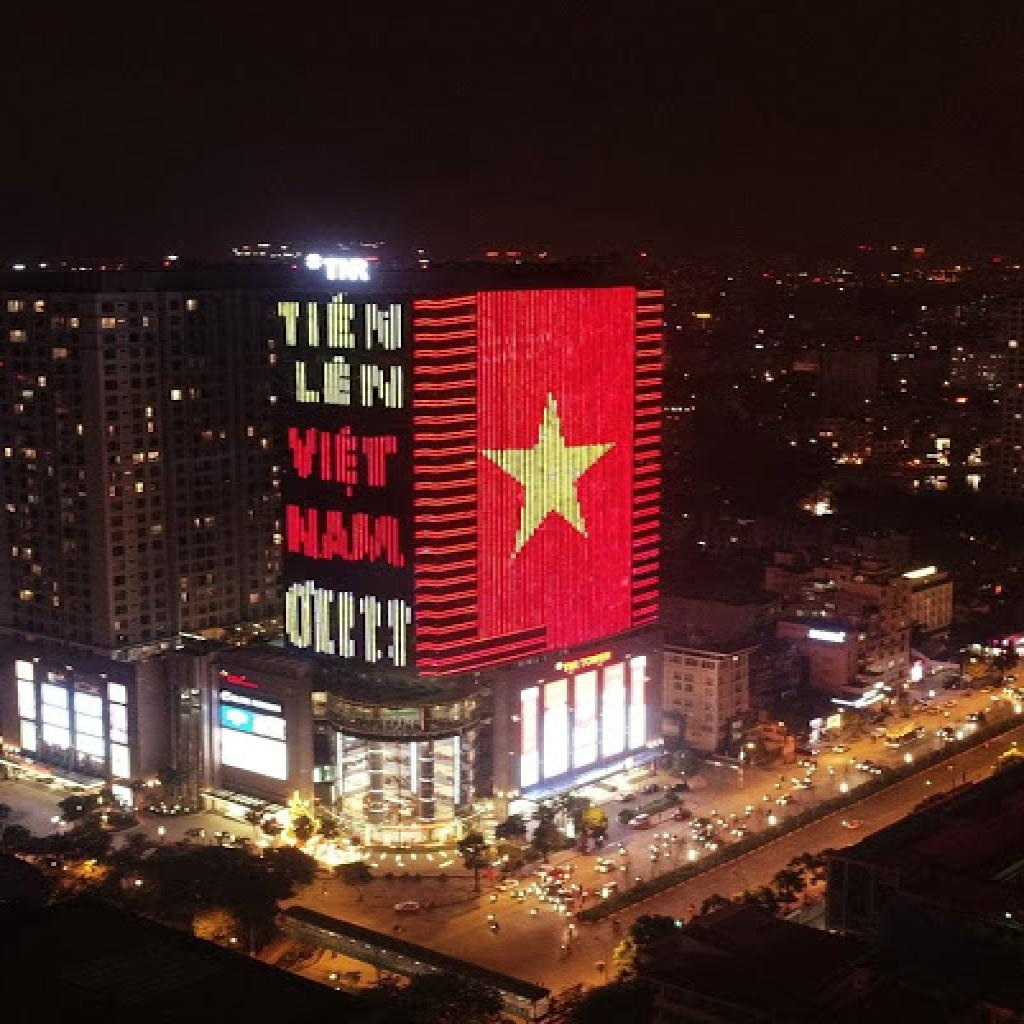text: (286, 418, 403, 504), (284, 496, 408, 576), (268, 288, 409, 356), (291, 354, 409, 412), (319, 256, 342, 284)
